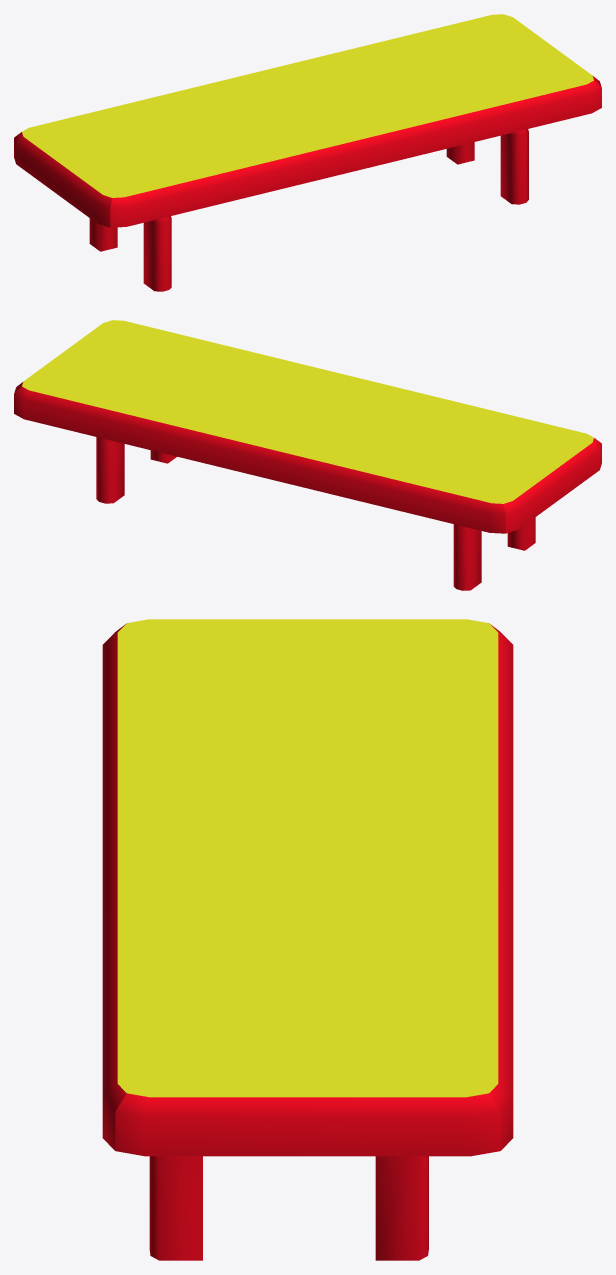
Rendered from SM_Yard_Chair.fbx.
The picture shows the model from 3 angles, top to bottom: view 1: azimuth 30°, elevation 25°; view 2: azimuth 150°, elevation 25°; view 3: azimuth 270°, elevation 25°; orthographic projection. The views are drawn at different scales.
Visible parts, largest first — view 1: SM_Yard_Chair; view 2: SM_Yard_Chair; view 3: SM_Yard_Chair.
Part boxes in pixels (bbox=[...]): SM_Yard_Chair: bbox=[14, 14, 601, 291]; SM_Yard_Chair: bbox=[14, 320, 601, 590]; SM_Yard_Chair: bbox=[102, 619, 513, 1260].
Size of the model in its own units: 193 by 40.87 by 68.18.
